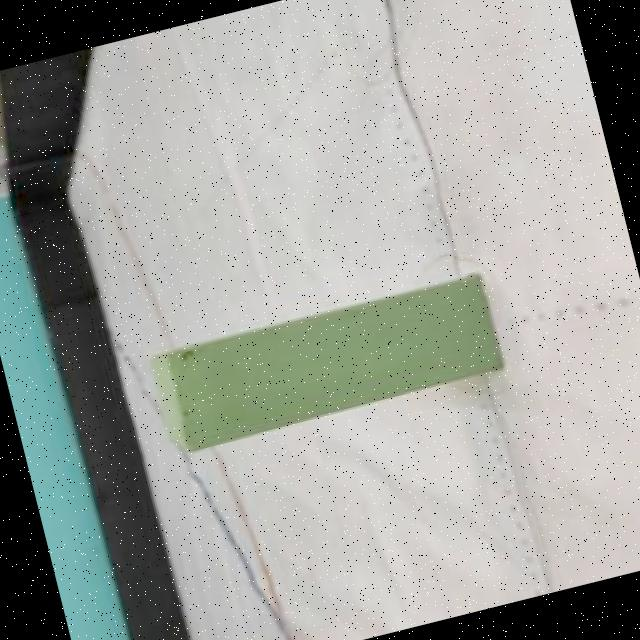greenbox: (150, 270, 504, 451)
